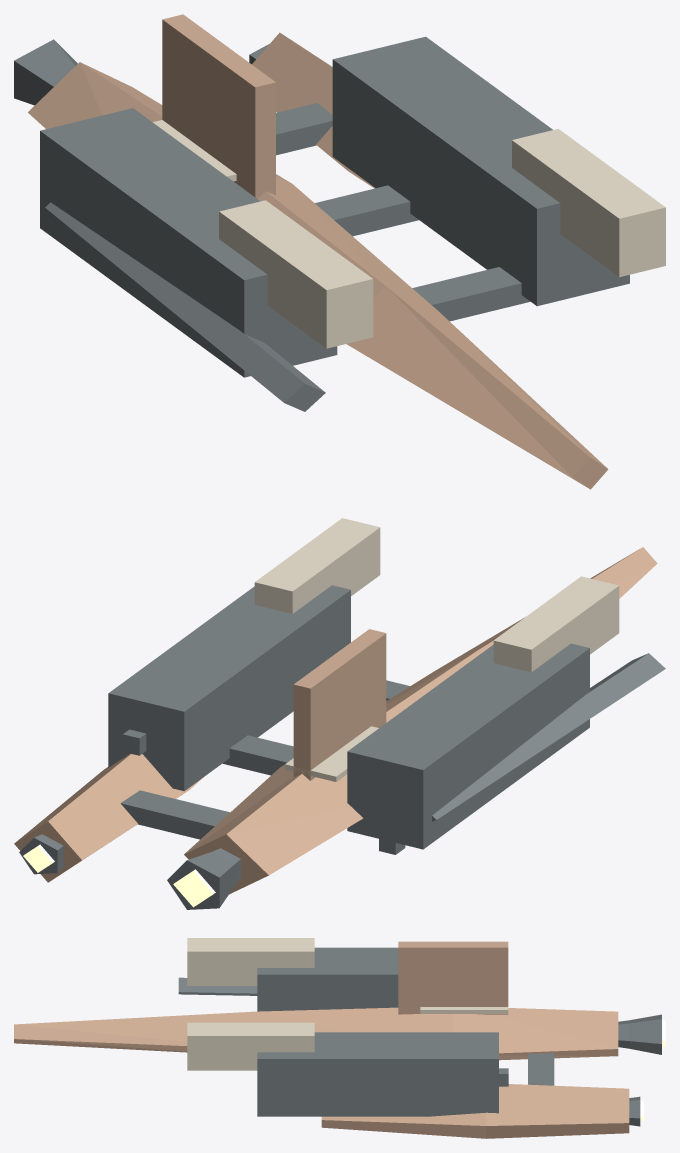
3 views of the same model, one above another, from view 1: azimuth 30°, elevation 25°; view 2: azimuth 150°, elevation 25°; view 3: azimuth 270°, elevation 25° (orthographic). The views are drawn at different scales.
Bounding box in the file's own units: 9.21 × 4.64 × 20.51.
